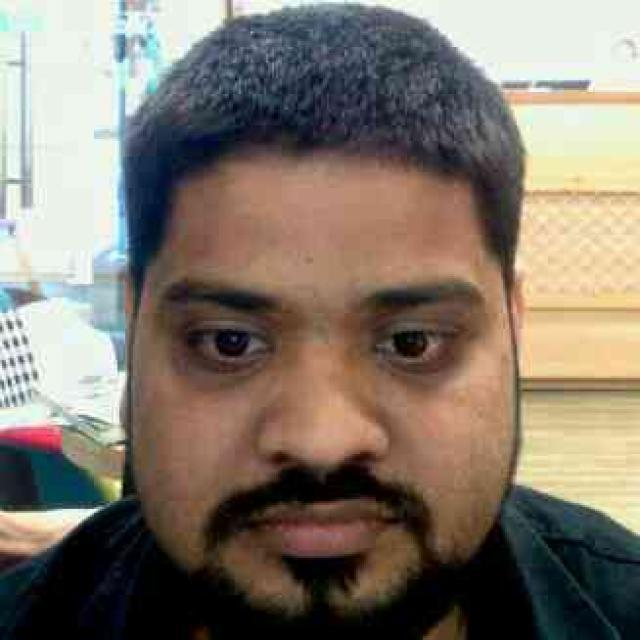puffy_eyes: (175, 342, 273, 390), (378, 350, 461, 386)
